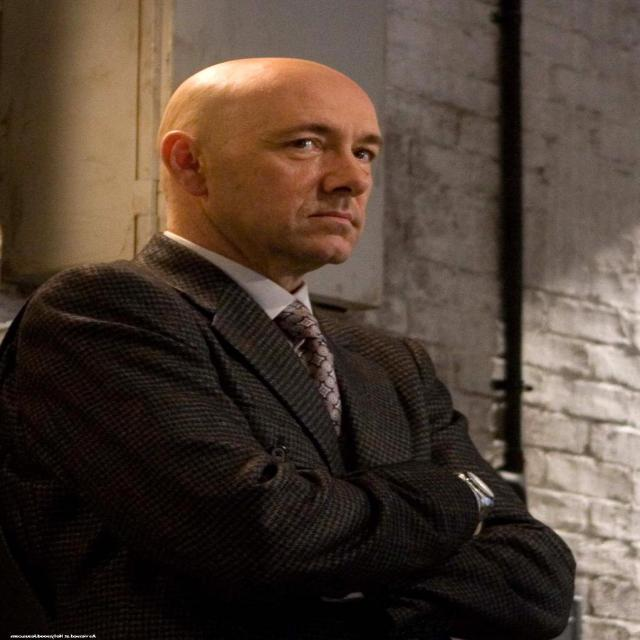no-earmuff: (150, 117, 218, 205)
